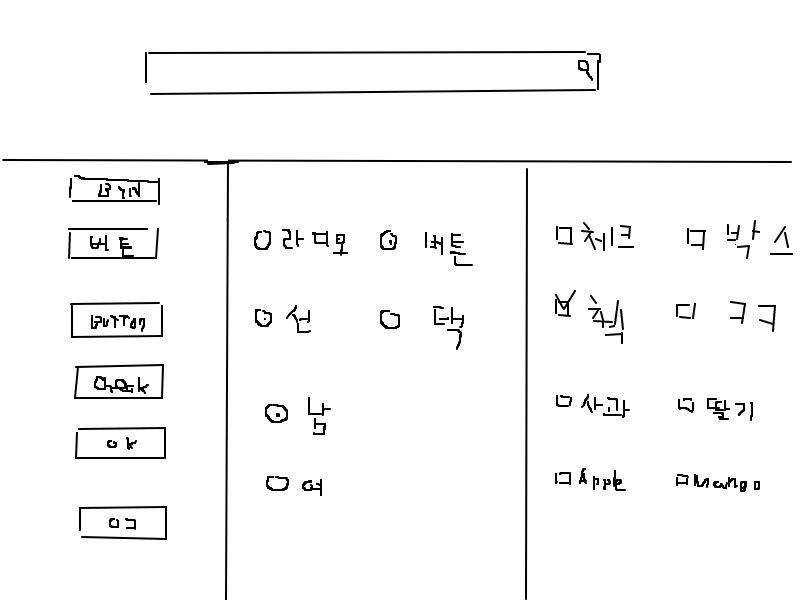button: (66, 363, 168, 401), (66, 300, 165, 339), (63, 226, 162, 263), (76, 504, 171, 542), (62, 173, 165, 207), (72, 426, 169, 461)
checkBoxH: (548, 282, 787, 354), (551, 211, 796, 266), (551, 380, 759, 435), (549, 459, 768, 507)
editText: (141, 47, 609, 97)
radioButtonH: (249, 290, 473, 357), (248, 217, 479, 277)
radioButtonV: (251, 387, 353, 509)
